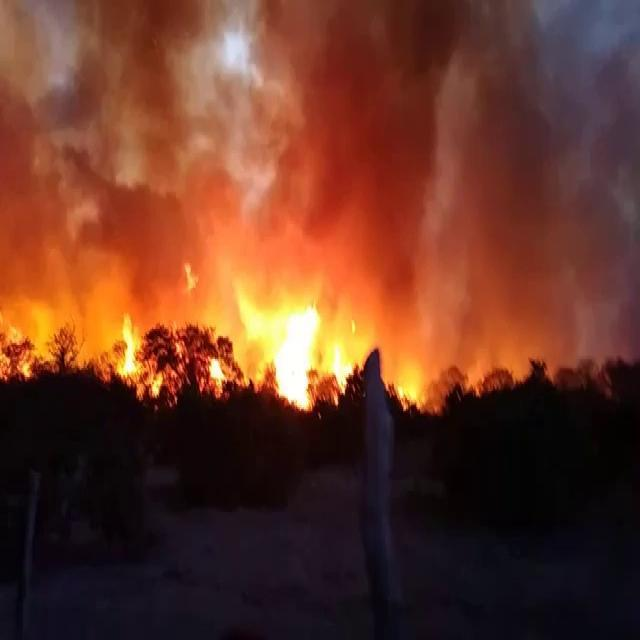Fire: (3, 245, 388, 402), (259, 291, 360, 409), (117, 306, 157, 398), (391, 356, 426, 412), (207, 354, 226, 398)
Smoke: (435, 5, 640, 373), (99, 0, 214, 186)
